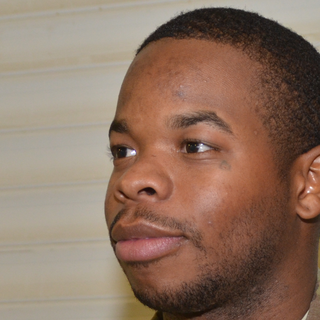eye: (175, 134, 223, 161), (107, 140, 143, 165)
